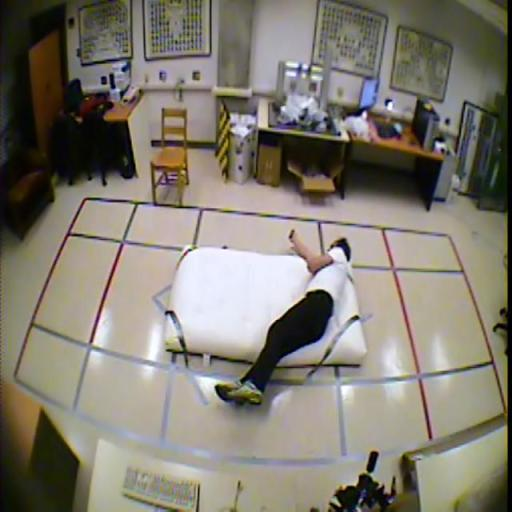Fall: (214, 227, 352, 407)
